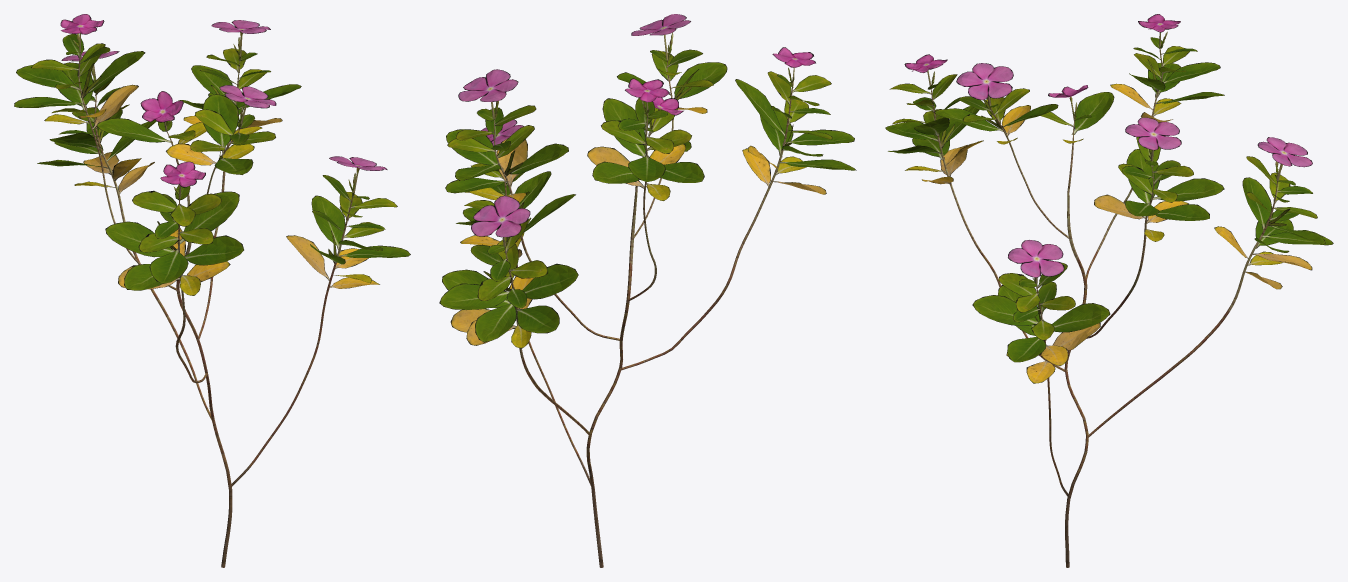
The model's file is periwinkle.glb.
3 views of the same model, side by side, from view 1: azimuth 30°, elevation 25°; view 2: azimuth 150°, elevation 25°; view 3: azimuth 270°, elevation 25° (orthographic). The views are drawn at different scales.
Bounding box in the file's own units: 0.2608 × 0.3972 × 0.3207.
Materials: 1 (1 with a texture image).
